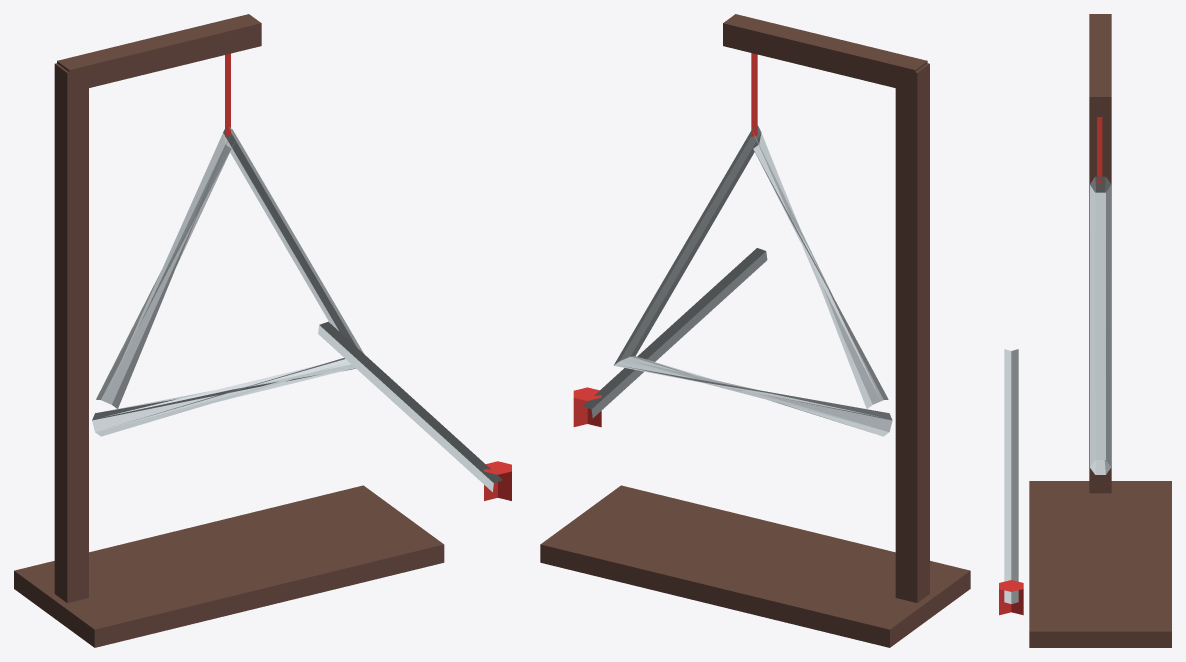
File: triangel.glb
3 renders of one model, left to right at view 1: azimuth 30°, elevation 25°; view 2: azimuth 150°, elevation 25°; view 3: azimuth 270°, elevation 25°, orthographic. The views are drawn at different scales.
Parts seen in each view (by area): view 1: triangel; view 2: triangel; view 3: triangel.
Boxes of the visible parts, x1=… form: triangel: x1=14, y1=14, x2=511, y2=647; triangel: x1=540, y1=14, x2=970, y2=647; triangel: x1=999, y1=14, x2=1171, y2=647.
Size of the model in its own units: 0.466 by 0.6025 by 0.1938.
